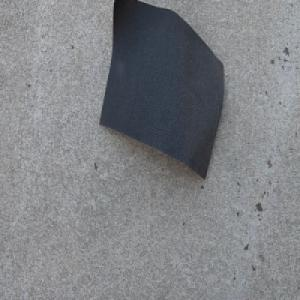PaintChip: (98, 0, 224, 180)
